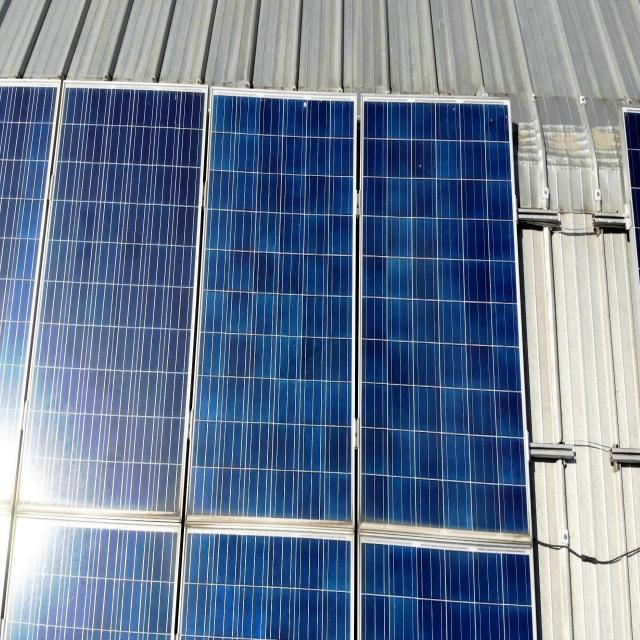faulty: (355, 98, 533, 535)
no faulty: (22, 84, 208, 529), (186, 87, 362, 538)
